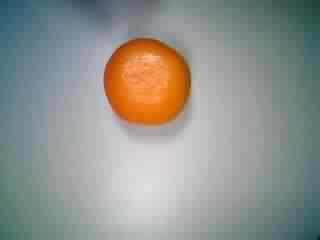orange: (101, 32, 196, 127)
